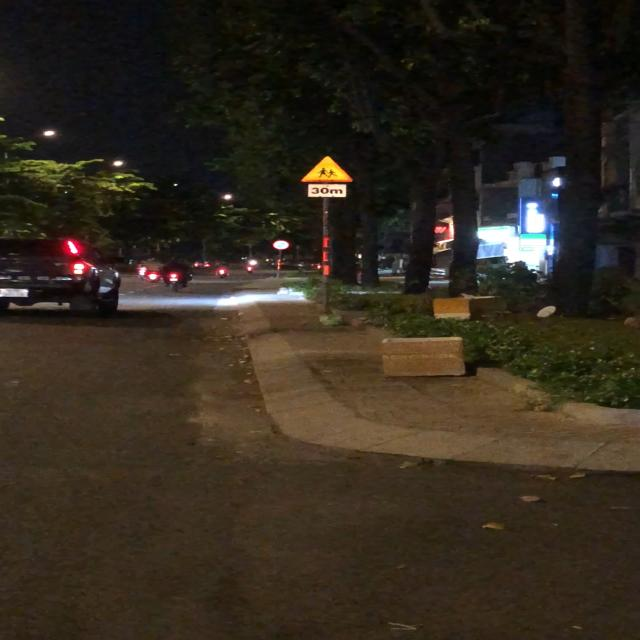Bien bao tre em: (299, 153, 355, 184)
